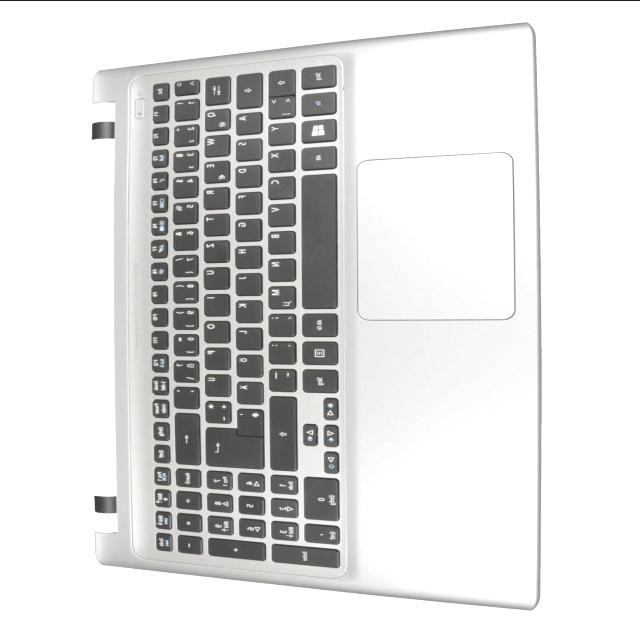0: (172, 332, 198, 356)
1: (173, 98, 199, 120)
2: (173, 124, 199, 146)
3: (172, 149, 198, 172)
4: (172, 174, 198, 198)
5: (172, 200, 198, 224)
6: (172, 226, 198, 250)
7: (172, 253, 198, 276)
8: (172, 279, 198, 302)
9: (172, 305, 198, 329)
a: (234, 110, 262, 134)
accent: (172, 385, 198, 408)
ae: (235, 380, 263, 404)
alt-left: (300, 145, 336, 169)
altgr-right: (301, 312, 337, 336)
b: (266, 229, 295, 253)
c: (266, 175, 294, 199)
caret: (173, 78, 199, 94)
comma: (267, 312, 296, 336)
d: (234, 163, 262, 187)
del: (173, 410, 199, 464)
e: (202, 159, 230, 183)
enter: (204, 426, 263, 467)
f: (234, 190, 262, 214)
g: (233, 217, 261, 241)
h: (234, 244, 262, 268)
hash: (235, 407, 263, 435)
i: (202, 292, 230, 316)
j: (234, 271, 262, 295)
k: (234, 298, 263, 322)
keyboard: (127, 51, 347, 581)
l: (234, 325, 262, 349)
less: (267, 95, 295, 118)
m: (267, 285, 296, 309)
minus: (267, 366, 296, 391)
n: (267, 257, 296, 281)
o: (202, 318, 230, 342)
oe: (235, 353, 263, 377)
p: (203, 345, 231, 369)
plus: (203, 399, 231, 423)
point: (267, 339, 297, 364)
q: (203, 107, 229, 130)
r: (202, 185, 228, 209)
s: (234, 136, 262, 160)
shift-left: (268, 68, 294, 94)
shift-lock: (235, 71, 263, 108)
shift-right: (268, 394, 297, 470)
space: (300, 172, 336, 308)
ss: (173, 359, 199, 382)
strg-left: (300, 64, 336, 88)
strg-right: (301, 368, 338, 393)
t: (202, 212, 230, 236)
tab: (204, 75, 230, 105)
u: (202, 265, 230, 289)
ue: (203, 372, 231, 396)
v: (266, 202, 295, 226)
w: (203, 133, 229, 157)
x: (266, 148, 294, 172)
y: (267, 121, 295, 145)
z: (202, 238, 230, 262)
